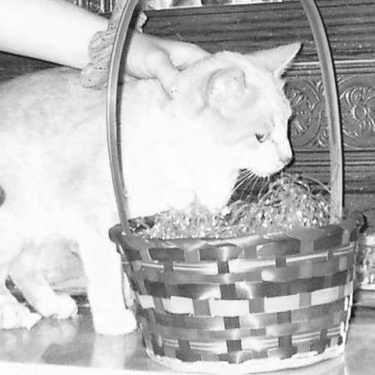cat: (1, 33, 301, 301)
